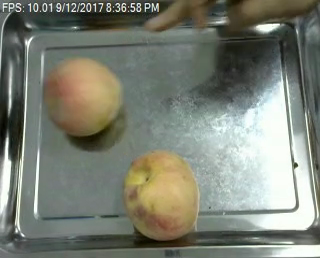Peach: (123, 150, 199, 240), (43, 55, 122, 137)
